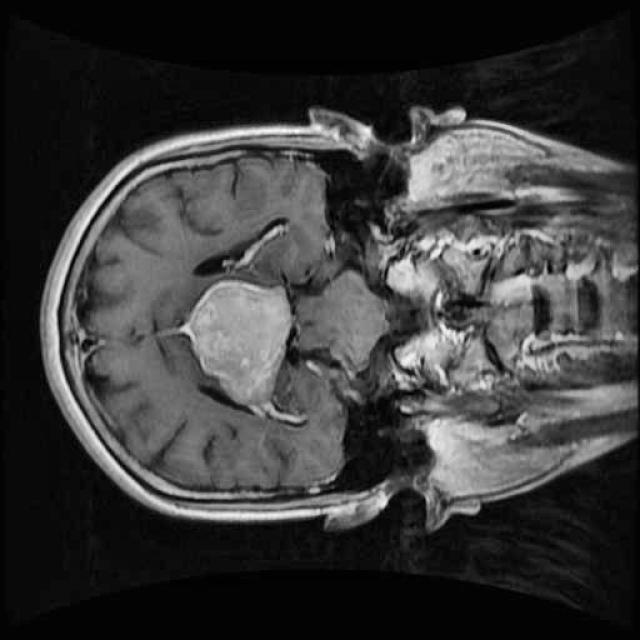Tumor: (168, 256, 310, 426)
